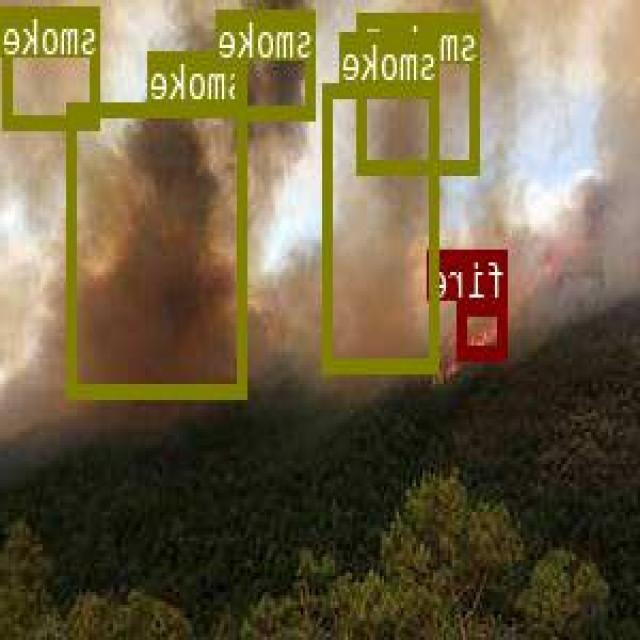fire: (460, 298, 510, 356)
smoke: (70, 99, 250, 396), (324, 82, 440, 371), (359, 11, 482, 170), (6, 5, 102, 126), (238, 8, 317, 115)
